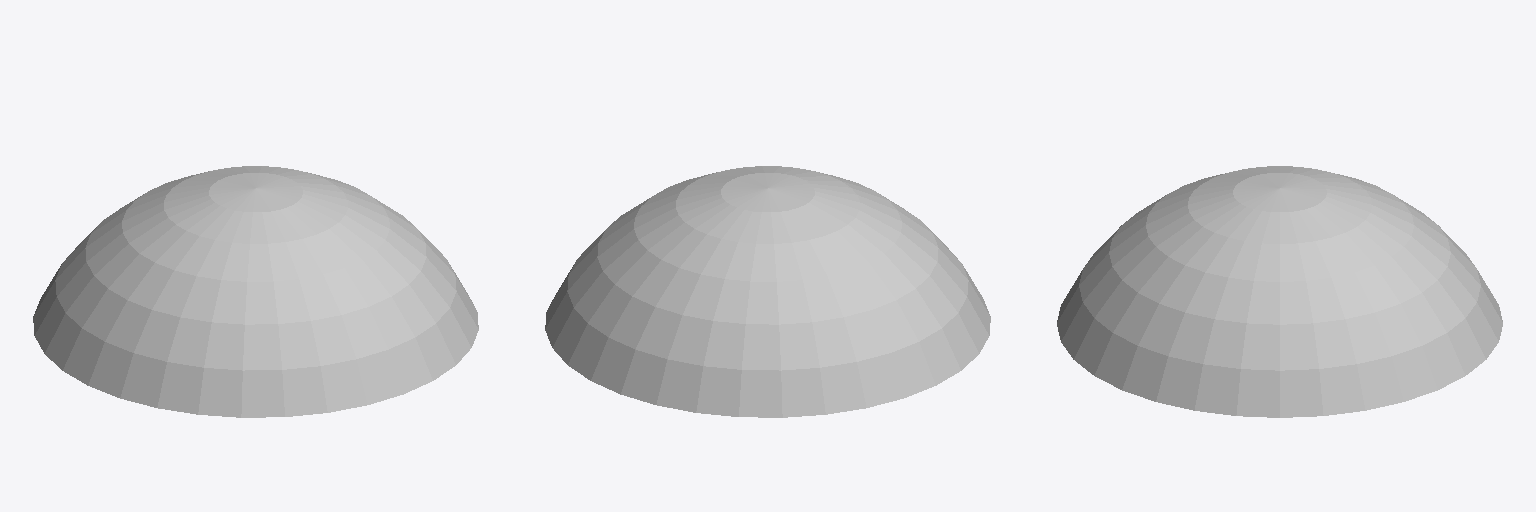
The model's file is skydome.obj.
3 renders of one model, left to right at view 1: azimuth 30°, elevation 25°; view 2: azimuth 150°, elevation 25°; view 3: azimuth 270°, elevation 25°, orthographic.
Visible parts, largest first — view 1: Sphere; view 2: Sphere; view 3: Sphere.
Part boxes in pixels (bbox=[...]): Sphere: bbox=[33, 166, 478, 417]; Sphere: bbox=[545, 166, 990, 417]; Sphere: bbox=[1057, 166, 1502, 417].
Size of the model in its own units: 252 by 84.16 by 252.